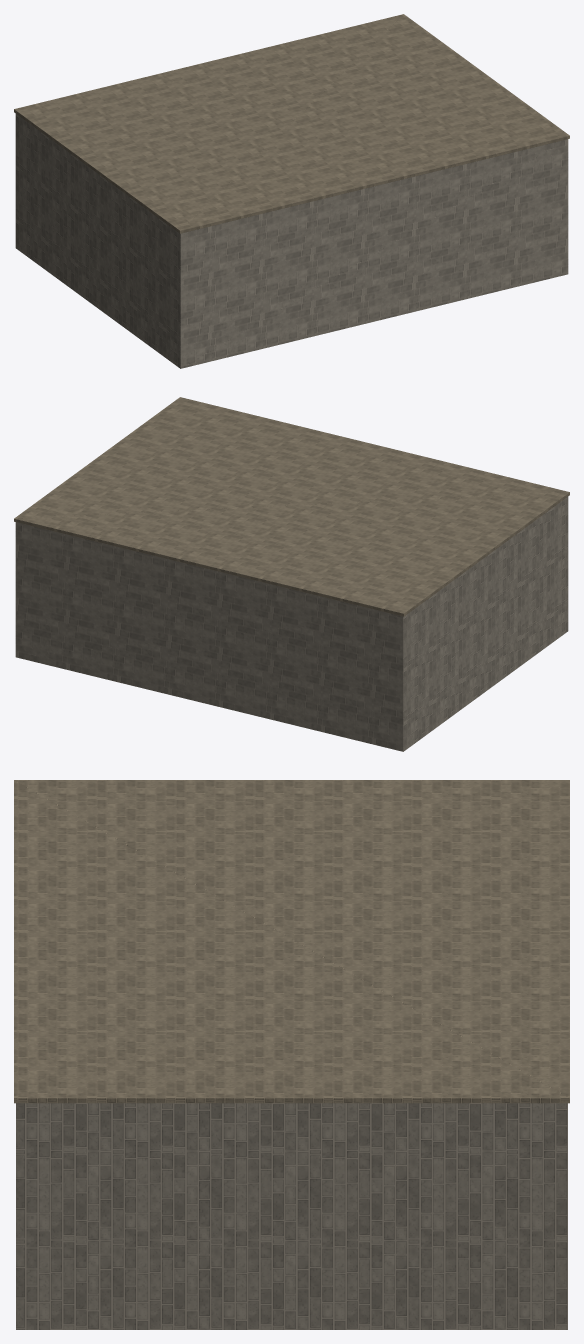
The model's file is SM_Art_Masonry_1900x1400x650.gltf.
3 views of the same model, one above another, from view 1: azimuth 30°, elevation 25°; view 2: azimuth 150°, elevation 25°; view 3: azimuth 270°, elevation 25° (orthographic). The views are drawn at different scales.
Visible parts, largest first — view 1: SM_Art_Masonry_1900x1400x650; view 2: SM_Art_Masonry_1900x1400x650; view 3: SM_Art_Masonry_1900x1400x650.
Boxes of the visible parts, box(x1,y1,x2,y2) form: SM_Art_Masonry_1900x1400x650: box(14, 14, 569, 368); SM_Art_Masonry_1900x1400x650: box(14, 397, 569, 751); SM_Art_Masonry_1900x1400x650: box(14, 780, 569, 1329).
Size of the model in its own units: 19.1 by 6.5 by 14.1.
Materials: 2 (2 with a texture image).
